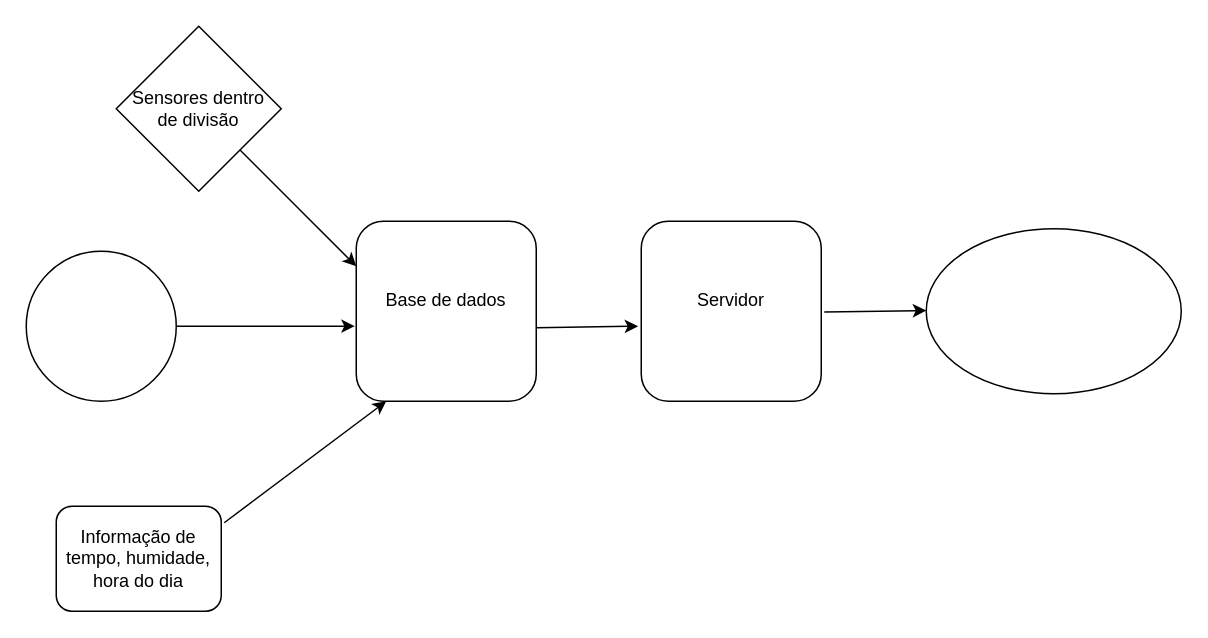
The diagram is 1208 pixels wide and 638 high, and some of its shapes have lost their labels. The shapes that lost their labels are listed below. From the top down, each one's centre as x and y in pixels, then its label:
(x=100, y=325): Sensores fora de divisão
(x=1053, y=310): Reguladores de temperatura de divisões
